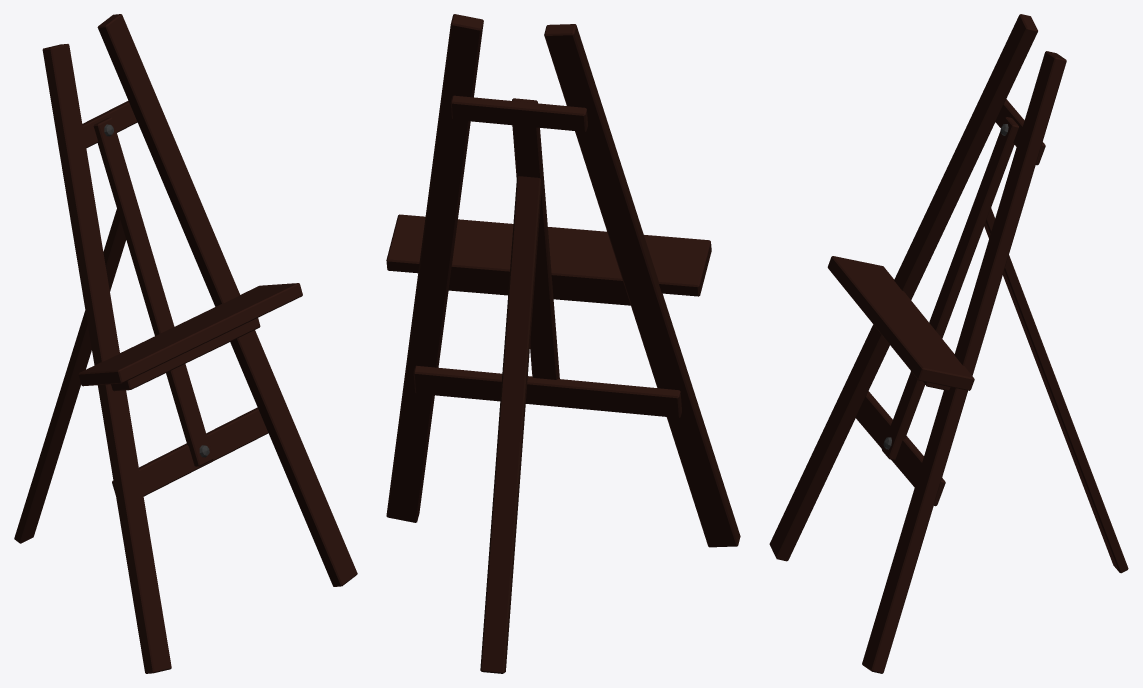
File: chevalet.FBX
3 renders of one model, left to right at view 1: azimuth 30°, elevation 25°; view 2: azimuth 150°, elevation 25°; view 3: azimuth 270°, elevation 25°, orthographic. The views are drawn at different scales.
Parts seen in each view (by area): view 1: Box002; view 2: Box002; view 3: Box002.
Part boxes in pixels (x1,y1,x2,y2): Box002: (14,14,357,673); Box002: (386,14,740,673); Box002: (769,14,1128,673).
Size of the model in its own units: 87.49 by 97.21 by 164.
